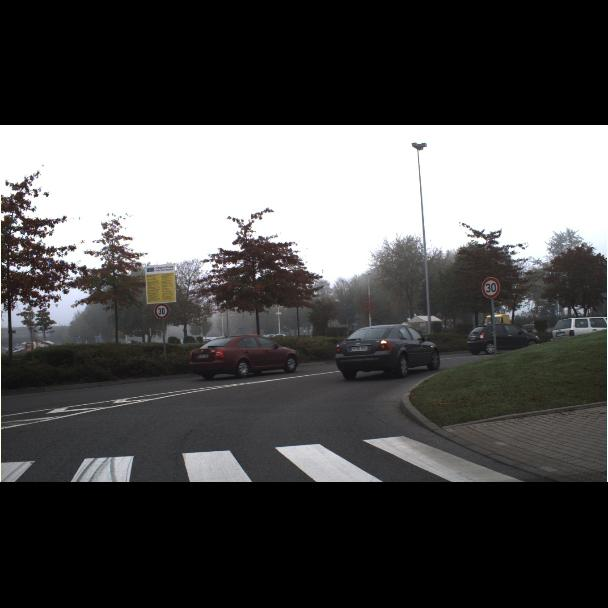speed limit 30: (154, 277, 500, 320)
